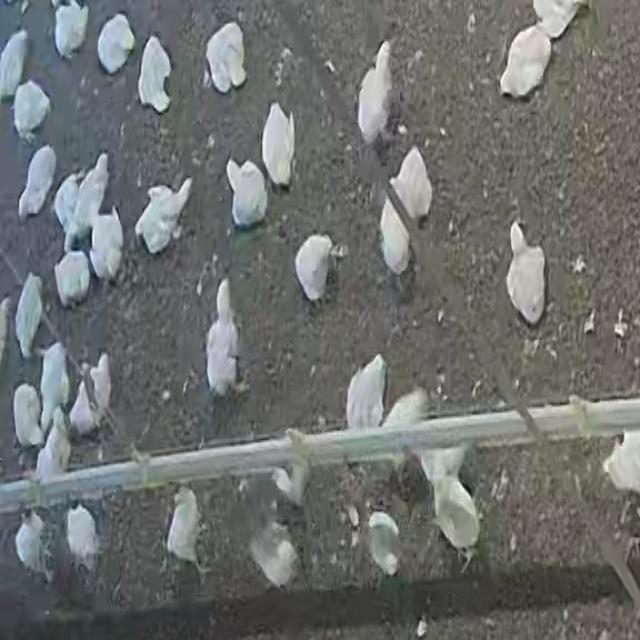chicken: (133, 179, 193, 254), (378, 387, 431, 469), (355, 43, 398, 143), (506, 220, 546, 326), (206, 277, 240, 399), (498, 29, 552, 105), (430, 474, 480, 554), (70, 151, 111, 244), (248, 517, 299, 589), (344, 355, 388, 433), (390, 146, 432, 224), (166, 485, 203, 570), (204, 21, 247, 94), (225, 157, 267, 229), (262, 102, 296, 188), (137, 33, 173, 113), (19, 145, 57, 219), (88, 206, 125, 280), (39, 341, 69, 431), (294, 236, 333, 304), (379, 196, 411, 276), (367, 509, 404, 578), (65, 502, 100, 574), (15, 273, 45, 357), (12, 78, 52, 141), (96, 12, 136, 74), (605, 427, 640, 496), (14, 511, 48, 581), (54, 249, 92, 307), (35, 418, 68, 484), (53, 1, 89, 57), (0, 30, 29, 99), (534, 0, 584, 39), (54, 172, 82, 238), (417, 444, 464, 483), (9, 388, 40, 446), (89, 351, 112, 418), (69, 381, 95, 436)
